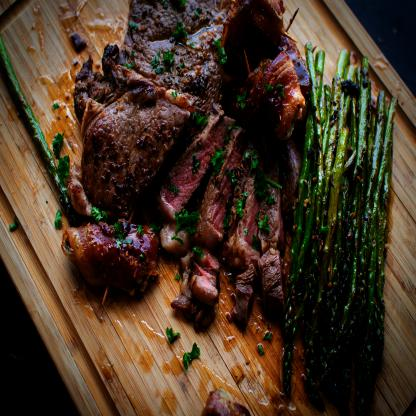Carne: (75, 86, 188, 199), (123, 0, 225, 92), (159, 106, 230, 221), (197, 122, 249, 250), (226, 146, 262, 270), (259, 160, 285, 314)
